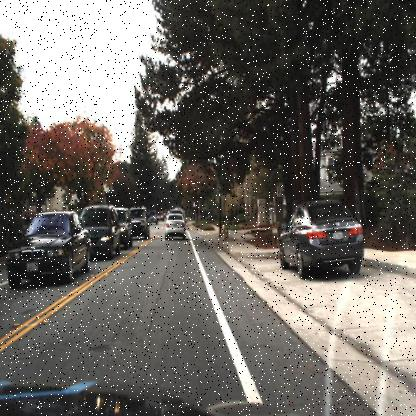car: (276, 196, 364, 279), (5, 210, 93, 284), (77, 203, 122, 258), (84, 207, 121, 259), (111, 207, 136, 254), (164, 211, 190, 243), (126, 206, 150, 240), (130, 207, 150, 239), (118, 206, 132, 248)
